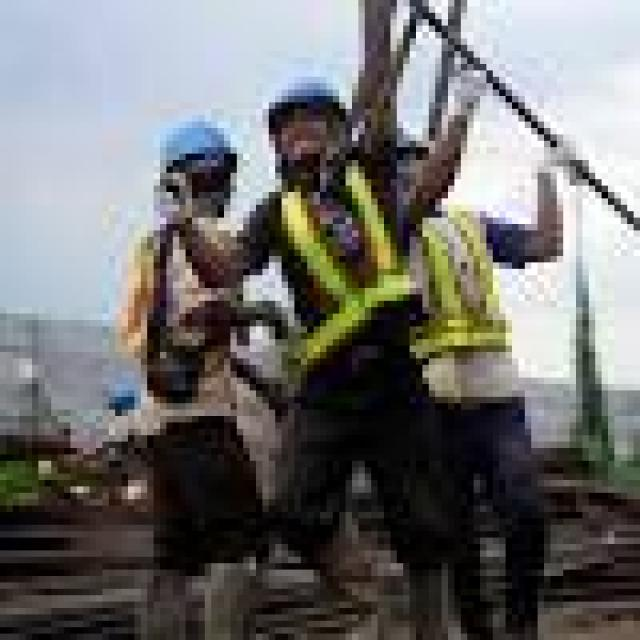Reflective-Jacket: (256, 173, 416, 417), (406, 195, 498, 368)
Safety-Helmet: (134, 102, 250, 192), (243, 58, 365, 128)
